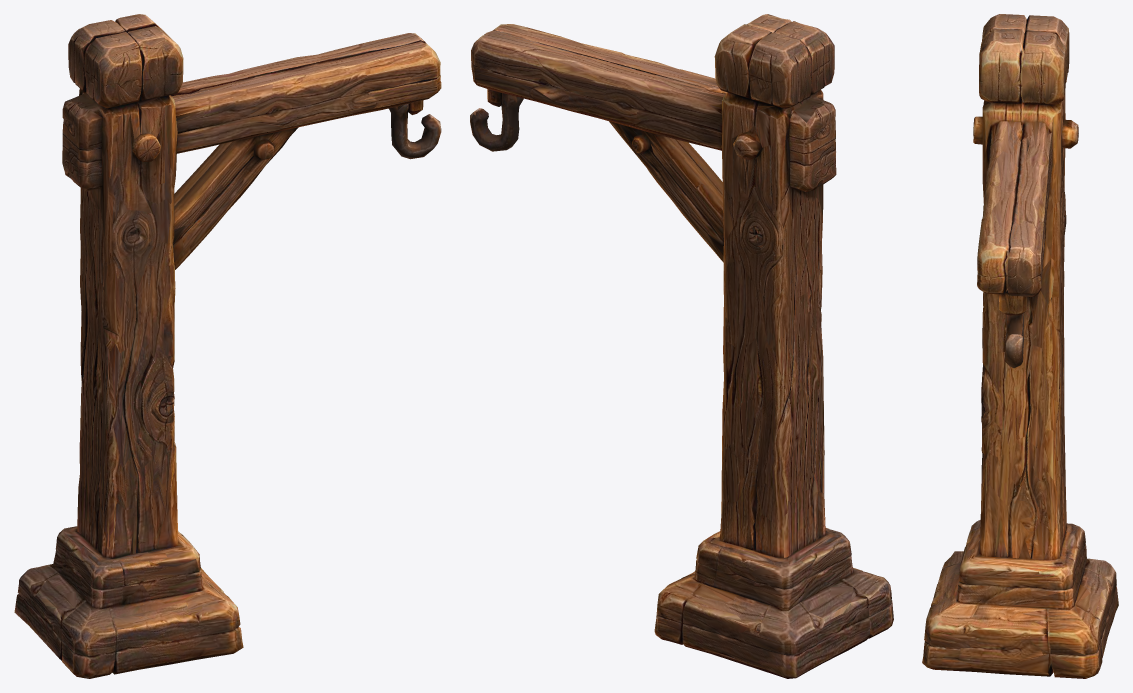
The model's file is lantern_post.glb.
The picture shows the model from 3 angles, left to right: view 1: azimuth 30°, elevation 25°; view 2: azimuth 150°, elevation 25°; view 3: azimuth 270°, elevation 25°; orthographic projection.
Parts seen in each view (by area): view 1: tripo_node_dfeeaddd-71a6-48cf-9f6e-9f7db7d021c6; view 2: tripo_node_dfeeaddd-71a6-48cf-9f6e-9f7db7d021c6; view 3: tripo_node_dfeeaddd-71a6-48cf-9f6e-9f7db7d021c6.
Boxes of the visible parts, x1,y1,x2,y2 form: tripo_node_dfeeaddd-71a6-48cf-9f6e-9f7db7d021c6: [14, 14, 441, 678]; tripo_node_dfeeaddd-71a6-48cf-9f6e-9f7db7d021c6: [470, 14, 893, 678]; tripo_node_dfeeaddd-71a6-48cf-9f6e-9f7db7d021c6: [922, 14, 1118, 678].
Bounding box in the file's own units: 1.5 × 2.2 × 0.6443.
1 material, 1 textured.
